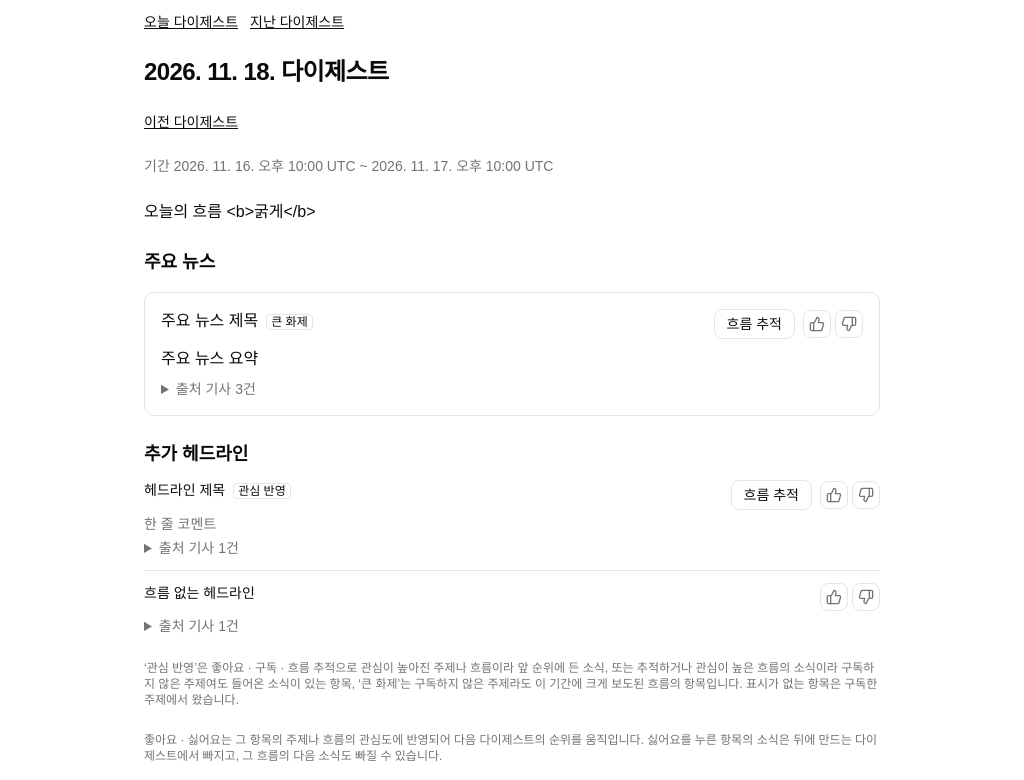
DigestDayPage › 흐름 추적의 상한은 항목 안에 알리고 추적 중인 흐름으로 가는 링크를 둔다
The width and height of the screenshot is (1024, 780).
Click the button with aria-label "주요 뉴스 제목 흐름 추적": coordinates (754, 324) [714,309,795,339]
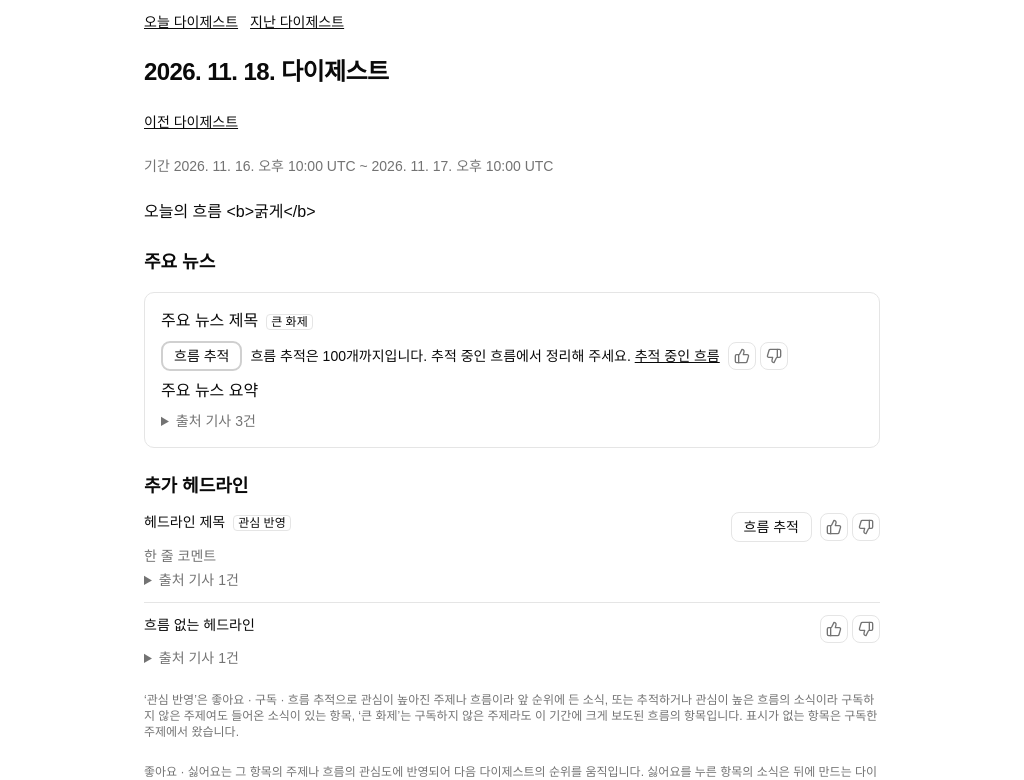
Check: the element that starts with "주요 뉴스 제목" is shown, box [161,312,258,329]
Check: the message shows "흐름 추적은 100개까지입니다. 추적 중인 흐름에서 정리해 주세요.", box [250,348,631,364]
